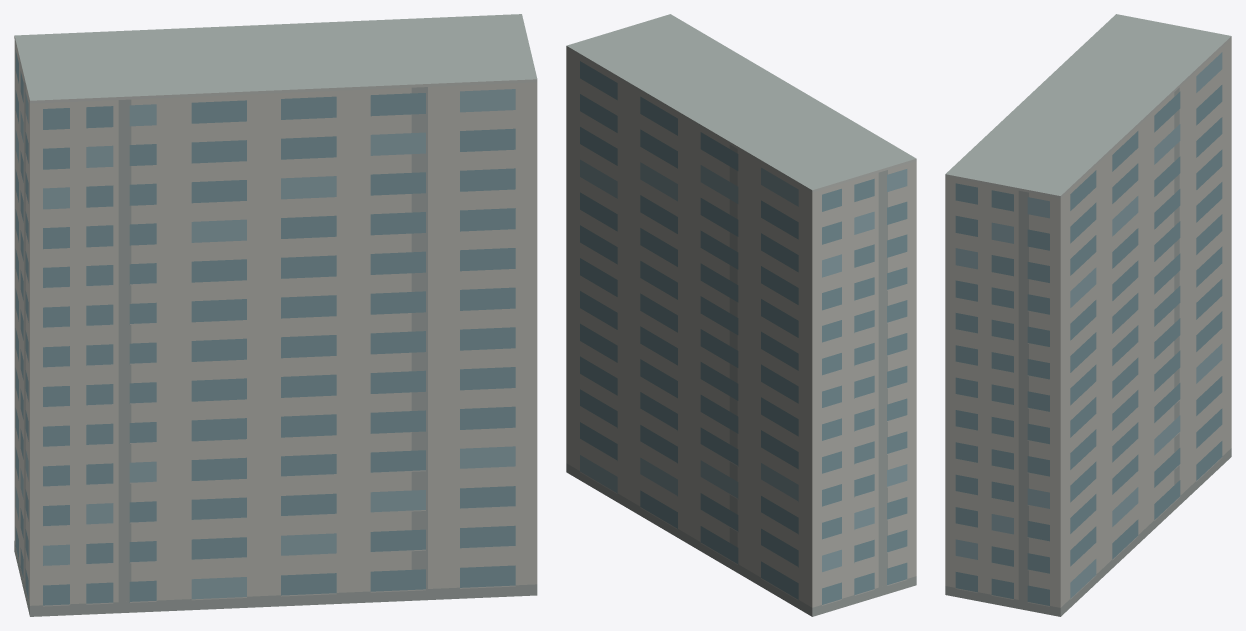
Rendered from residential-84d1c1ce-7b61-4b9f-ad77-7525868f0cd8.glb.
3 views of the same model, side by side, from view 1: azimuth 30°, elevation 25°; view 2: azimuth 150°, elevation 25°; view 3: azimuth 270°, elevation 25° (orthographic). The views are drawn at different scales.
Parts seen in each view (by area): view 1: residential-84d1c1ce-7b61-4b9f-ad77-7525868f0cd8.tmp; view 2: residential-84d1c1ce-7b61-4b9f-ad77-7525868f0cd8.tmp; view 3: residential-84d1c1ce-7b61-4b9f-ad77-7525868f0cd8.tmp.
Part boxes in pixels (left/top/right/bottom): residential-84d1c1ce-7b61-4b9f-ad77-7525868f0cd8.tmp: left=14, top=14, right=537, bottom=616; residential-84d1c1ce-7b61-4b9f-ad77-7525868f0cd8.tmp: left=566, top=14, right=916, bottom=616; residential-84d1c1ce-7b61-4b9f-ad77-7525868f0cd8.tmp: left=945, top=14, right=1231, bottom=616.
Size of the model in its own units: 38.07 by 41 by 25.3.
